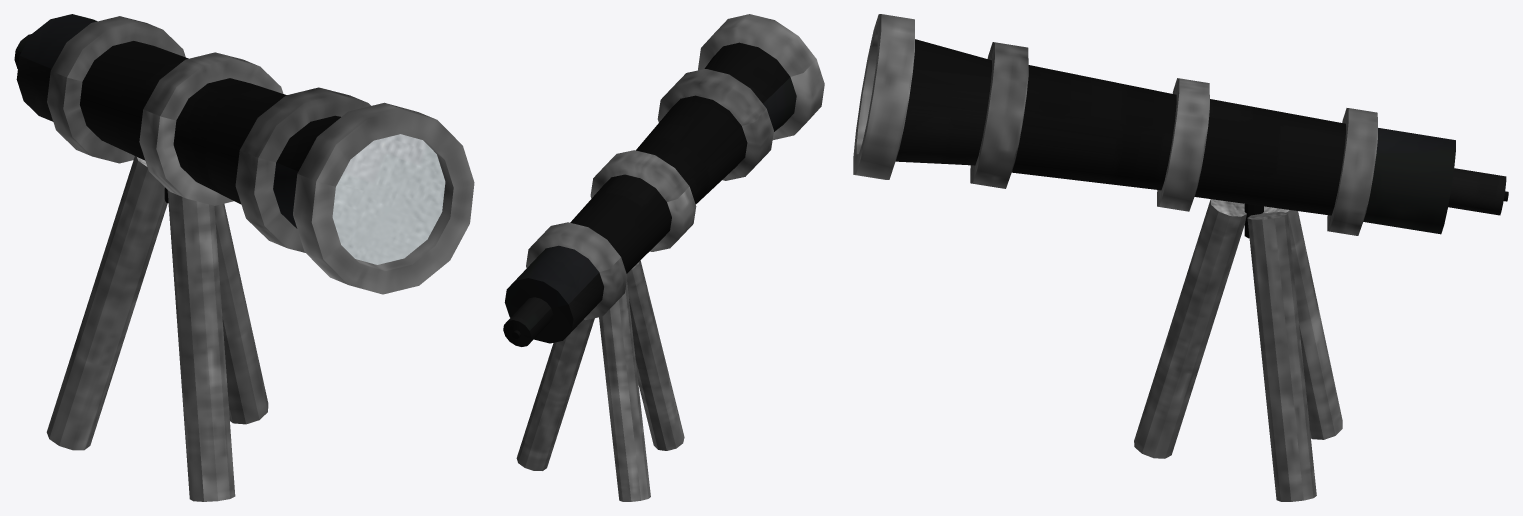
The model's file is telescope.fbx.
The picture shows the model from 3 angles, left to right: view 1: azimuth 30°, elevation 25°; view 2: azimuth 150°, elevation 25°; view 3: azimuth 270°, elevation 25°; orthographic projection. The views are drawn at different scales.
Visible parts, largest first — view 1: telescope, pCylinder5, pCylinder4, pCylinder3; view 2: telescope, pCylinder4, pCylinder5, pCylinder3; view 3: telescope, pCylinder3, pCylinder5, pCylinder4.
Part boxes in pixels (<box>): telescope: <box>14,14,474,294</box>; pCylinder5: <box>167,190,235,501</box>; pCylinder4: <box>46,156,167,450</box>; pCylinder3: <box>214,204,268,424</box>; telescope: <box>503,14,824,346</box>; pCylinder4: <box>599,281,650,501</box>; pCylinder5: <box>627,260,684,450</box>; pCylinder3: <box>516,318,594,470</box>; telescope: <box>853,14,1508,235</box>; pCylinder3: <box>1247,212,1316,501</box>; pCylinder5: <box>1134,199,1246,458</box>; pCylinder4: <box>1263,206,1342,439</box>.
Bounding box in the file's own units: 123 × 289 × 391.
